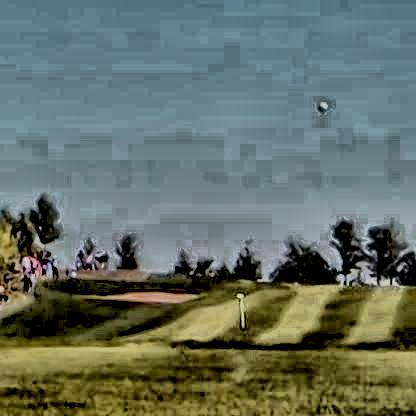golfball: (314, 98, 325, 109)
